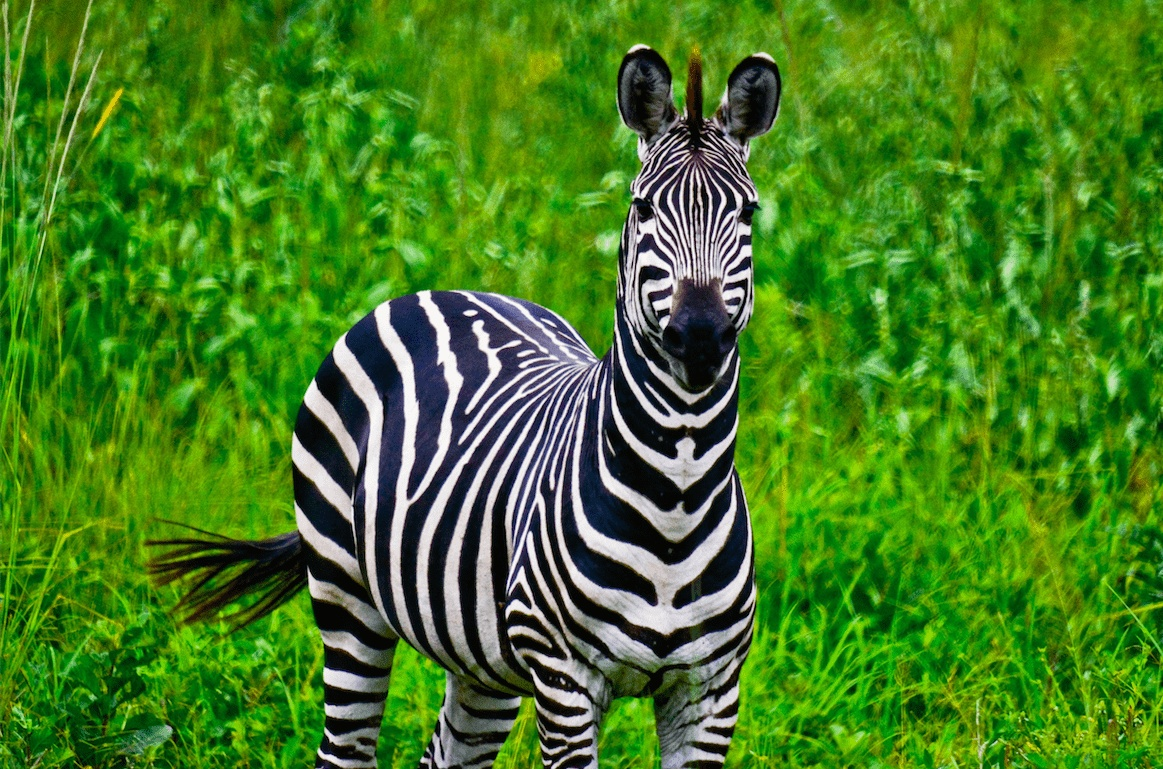zebra: (139, 36, 793, 769)
